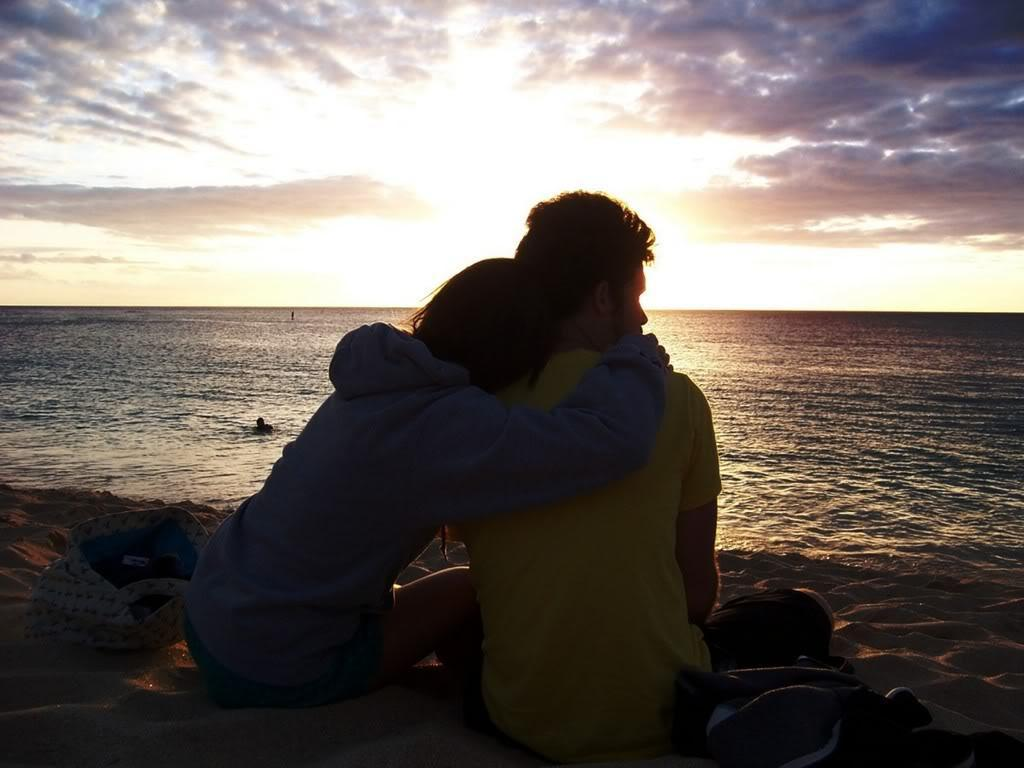face: (597, 253, 651, 361)
